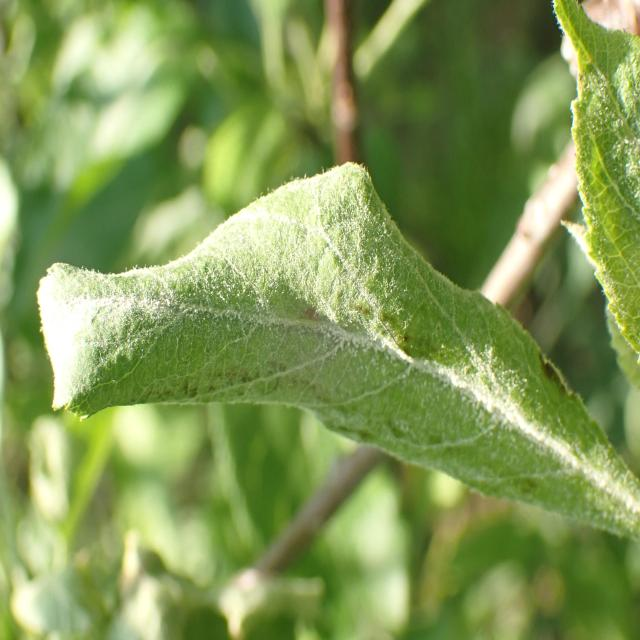Powdery_mildew: (31, 156, 636, 547), (550, 4, 640, 388)
